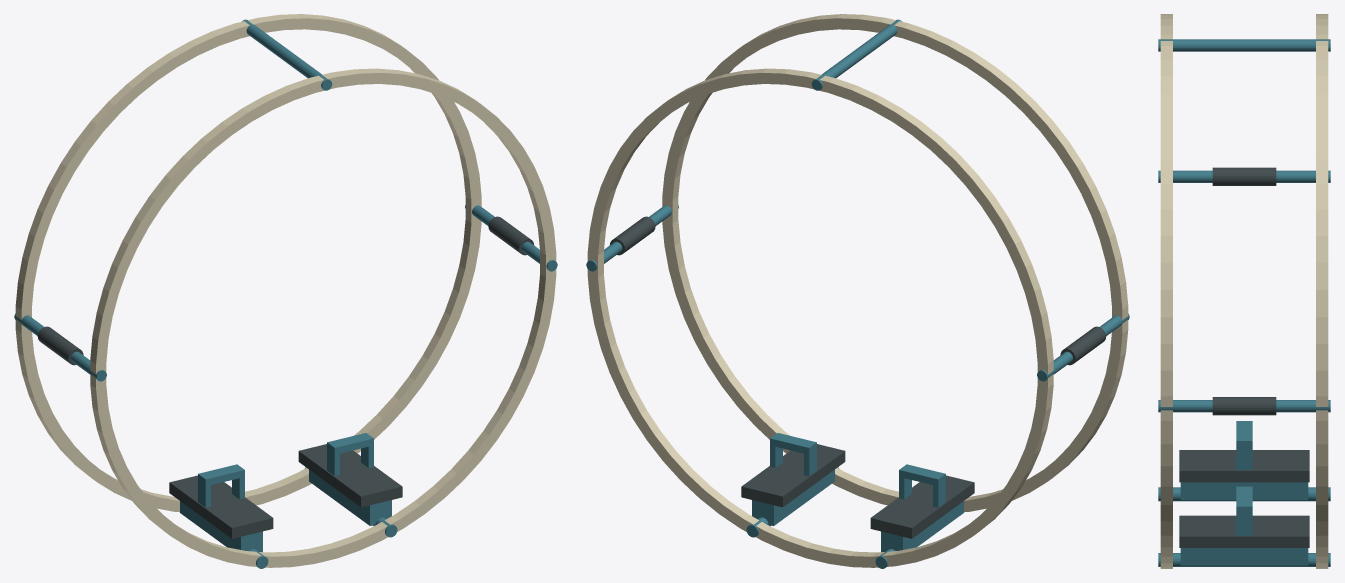
3 renders of one model, left to right at view 1: azimuth 30°, elevation 25°; view 2: azimuth 150°, elevation 25°; view 3: azimuth 270°, elevation 25°, orthographic. The views are drawn at different scales.
Parts seen in each view (by area): view 1: FrontWholeGroundFootOpenHoop, RearWholeGroundFootOpenHoop, RightWholeFootPlatform, LeftWholeFootPlatform, RightWholeFootPlatformRoot, LeftWholeOpenFootRetentionStrap, RightWholeOpenFootRetentionStrap, TopWholeCrossHoopStrut, LeftWholeFootPlatformRoot, LeftWholeFixedHandGrip, RightWholeFixedHandGrip, LeftWholeCrossHoopStrut; view 2: RearWholeGroundFootOpenHoop, FrontWholeGroundFootOpenHoop, RightWholeFootPlatform, LeftWholeFootPlatform, RightWholeFootPlatformRoot, LeftWholeOpenFootRetentionStrap, RightWholeOpenFootRetentionStrap, TopWholeCrossHoopStrut, LeftWholeFootPlatformRoot, LeftWholeFixedHandGrip, RightWholeFixedHandGrip, LeftWholeCrossHoopStrut; view 3: FrontWholeGroundFootOpenHoop, RearWholeGroundFootOpenHoop, LeftWholeFootPlatform, RightWholeFootPlatform, RightWholeFootPlatformRoot, LeftWholeFootPlatformRoot, TopWholeCrossHoopStrut, LeftWholeFixedHandGrip, RightWholeFixedHandGrip, RightWholeCrossHoopStrut, LeftWholeCrossHoopStrut, LeftWholeOpenFootRetentionStrap (+3 smaller).
Part boxes in pixels (x1,y1,x2,y2): FrontWholeGroundFootOpenHoop: [90, 68, 556, 567]; RearWholeGroundFootOpenHoop: [15, 14, 481, 512]; RightWholeFootPlatform: [298, 444, 402, 507]; LeftWholeFootPlatform: [169, 475, 273, 538]; RightWholeFootPlatformRoot: [309, 469, 391, 525]; LeftWholeOpenFootRetentionStrap: [198, 464, 244, 507]; RightWholeOpenFootRetentionStrap: [327, 433, 373, 475]; TopWholeCrossHoopStrut: [242, 19, 332, 90]; LeftWholeFootPlatformRoot: [180, 501, 262, 552]; LeftWholeFixedHandGrip: [37, 326, 83, 365]; RightWholeFixedHandGrip: [488, 216, 533, 255]; LeftWholeCrossHoopStrut: [14, 313, 106, 381]; RearWholeGroundFootOpenHoop: [587, 68, 1053, 567]; FrontWholeGroundFootOpenHoop: [662, 14, 1128, 512]; RightWholeFootPlatform: [741, 444, 845, 507]; LeftWholeFootPlatform: [870, 475, 974, 538]; RightWholeFootPlatformRoot: [752, 469, 834, 525]; LeftWholeOpenFootRetentionStrap: [899, 464, 945, 507]; RightWholeOpenFootRetentionStrap: [770, 433, 816, 475]; TopWholeCrossHoopStrut: [811, 19, 901, 90]; LeftWholeFootPlatformRoot: [881, 501, 963, 552]; LeftWholeFixedHandGrip: [1060, 326, 1106, 365]; RightWholeFixedHandGrip: [610, 216, 655, 255]; LeftWholeCrossHoopStrut: [1037, 313, 1129, 381]; FrontWholeGroundFootOpenHoop: [1160, 14, 1172, 568]; RearWholeGroundFootOpenHoop: [1316, 14, 1328, 568]; LeftWholeFootPlatform: [1179, 450, 1309, 482]; RightWholeFootPlatform: [1179, 515, 1309, 547]; RightWholeFootPlatformRoot: [1180, 548, 1308, 565]; LeftWholeFootPlatformRoot: [1180, 482, 1308, 499]; TopWholeCrossHoopStrut: [1158, 39, 1330, 51]; LeftWholeFixedHandGrip: [1212, 167, 1276, 185]; RightWholeFixedHandGrip: [1212, 397, 1276, 415]; RightWholeCrossHoopStrut: [1158, 400, 1330, 412]; LeftWholeCrossHoopStrut: [1158, 170, 1330, 182]; LeftWholeOpenFootRetentionStrap: [1236, 421, 1252, 470].
Size of the model in its own units: 2.02 by 2 by 0.62.
